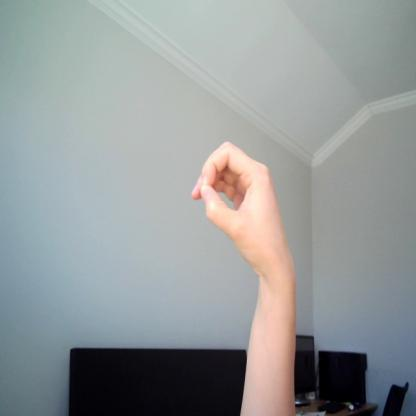O: (194, 138, 291, 266)
